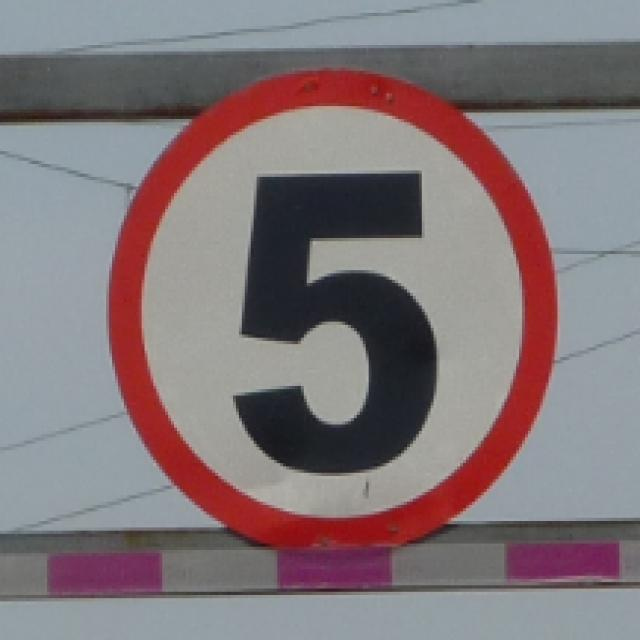Speed: (100, 39, 612, 560)
